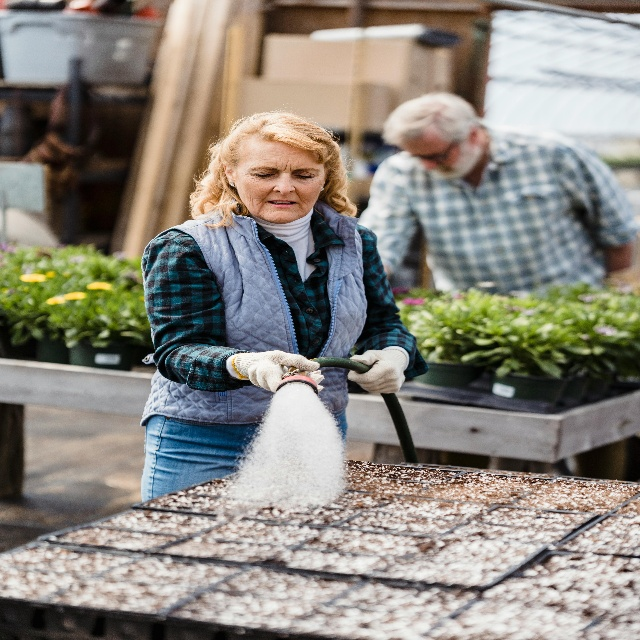Gafas: (409, 137, 459, 164)
Guantes: (232, 346, 325, 395), (346, 343, 409, 397)
